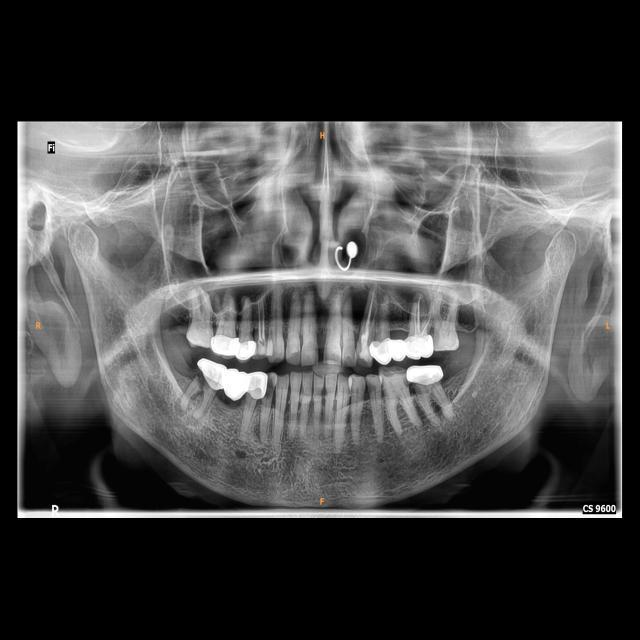dentin-curugu: (192, 372, 209, 393), (366, 375, 380, 397), (267, 375, 275, 403)
kanal-tedavisi: (411, 297, 431, 333), (362, 288, 374, 339), (254, 298, 267, 344)
kaplama: (405, 359, 446, 385), (208, 329, 239, 359), (406, 332, 435, 362), (200, 360, 228, 390), (235, 337, 258, 362), (368, 341, 393, 364), (248, 370, 269, 397)
kopru: (220, 370, 251, 406), (384, 331, 418, 363)
